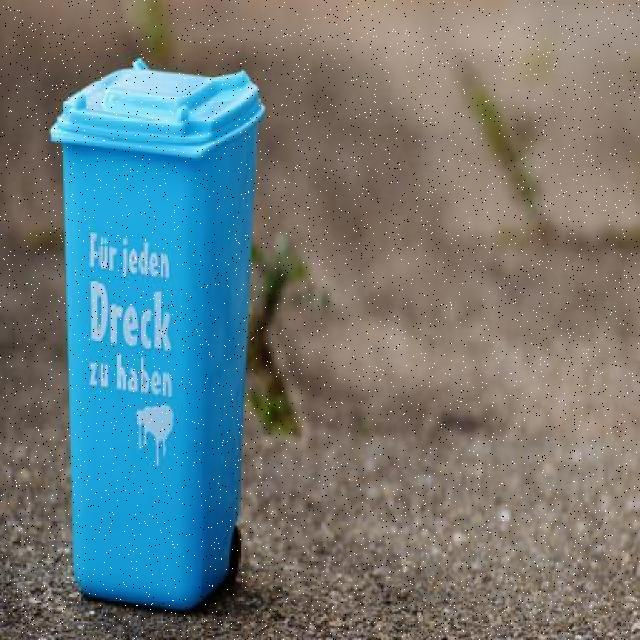garbage container: (39, 50, 282, 619)
